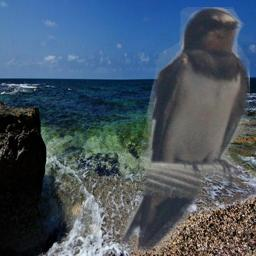Swallow: (120, 7, 250, 252)
